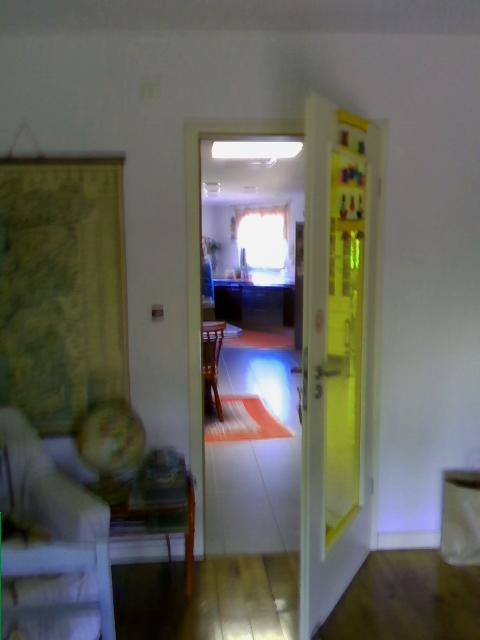semi_door: (185, 85, 388, 639)
